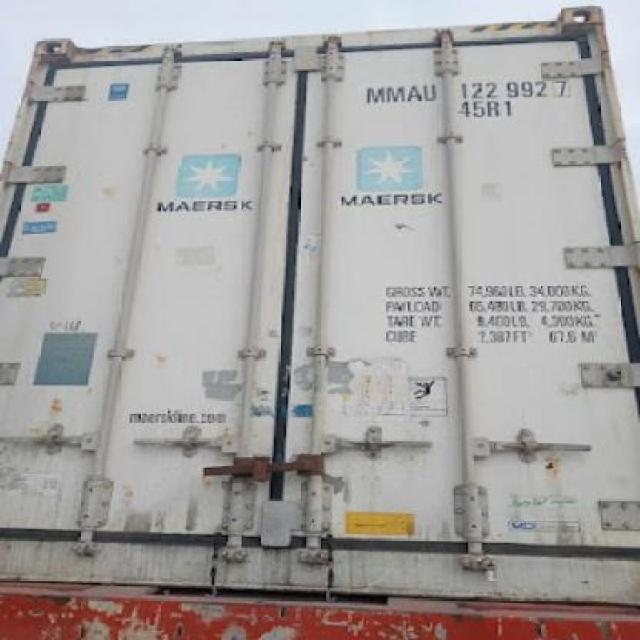ISO: (461, 100, 512, 118)
container_number: (367, 77, 560, 112)
